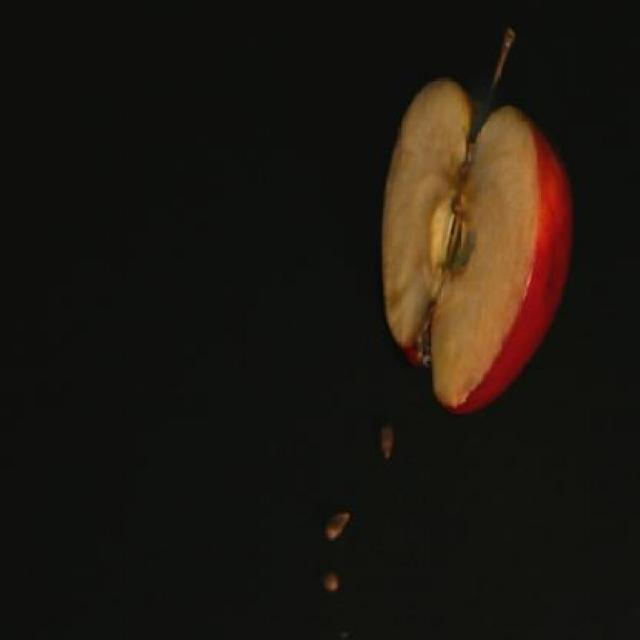Apple pie: (378, 45, 587, 453)
